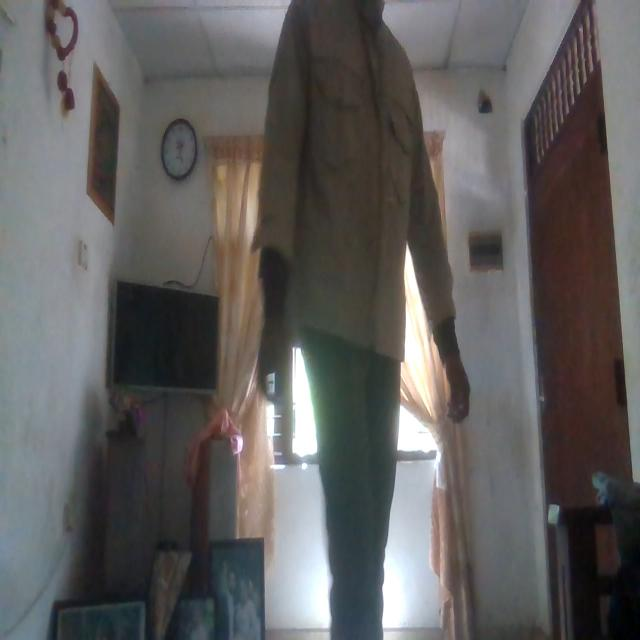Jacket_Wearer: (262, 0, 460, 379)
Person: (256, 0, 474, 640)
